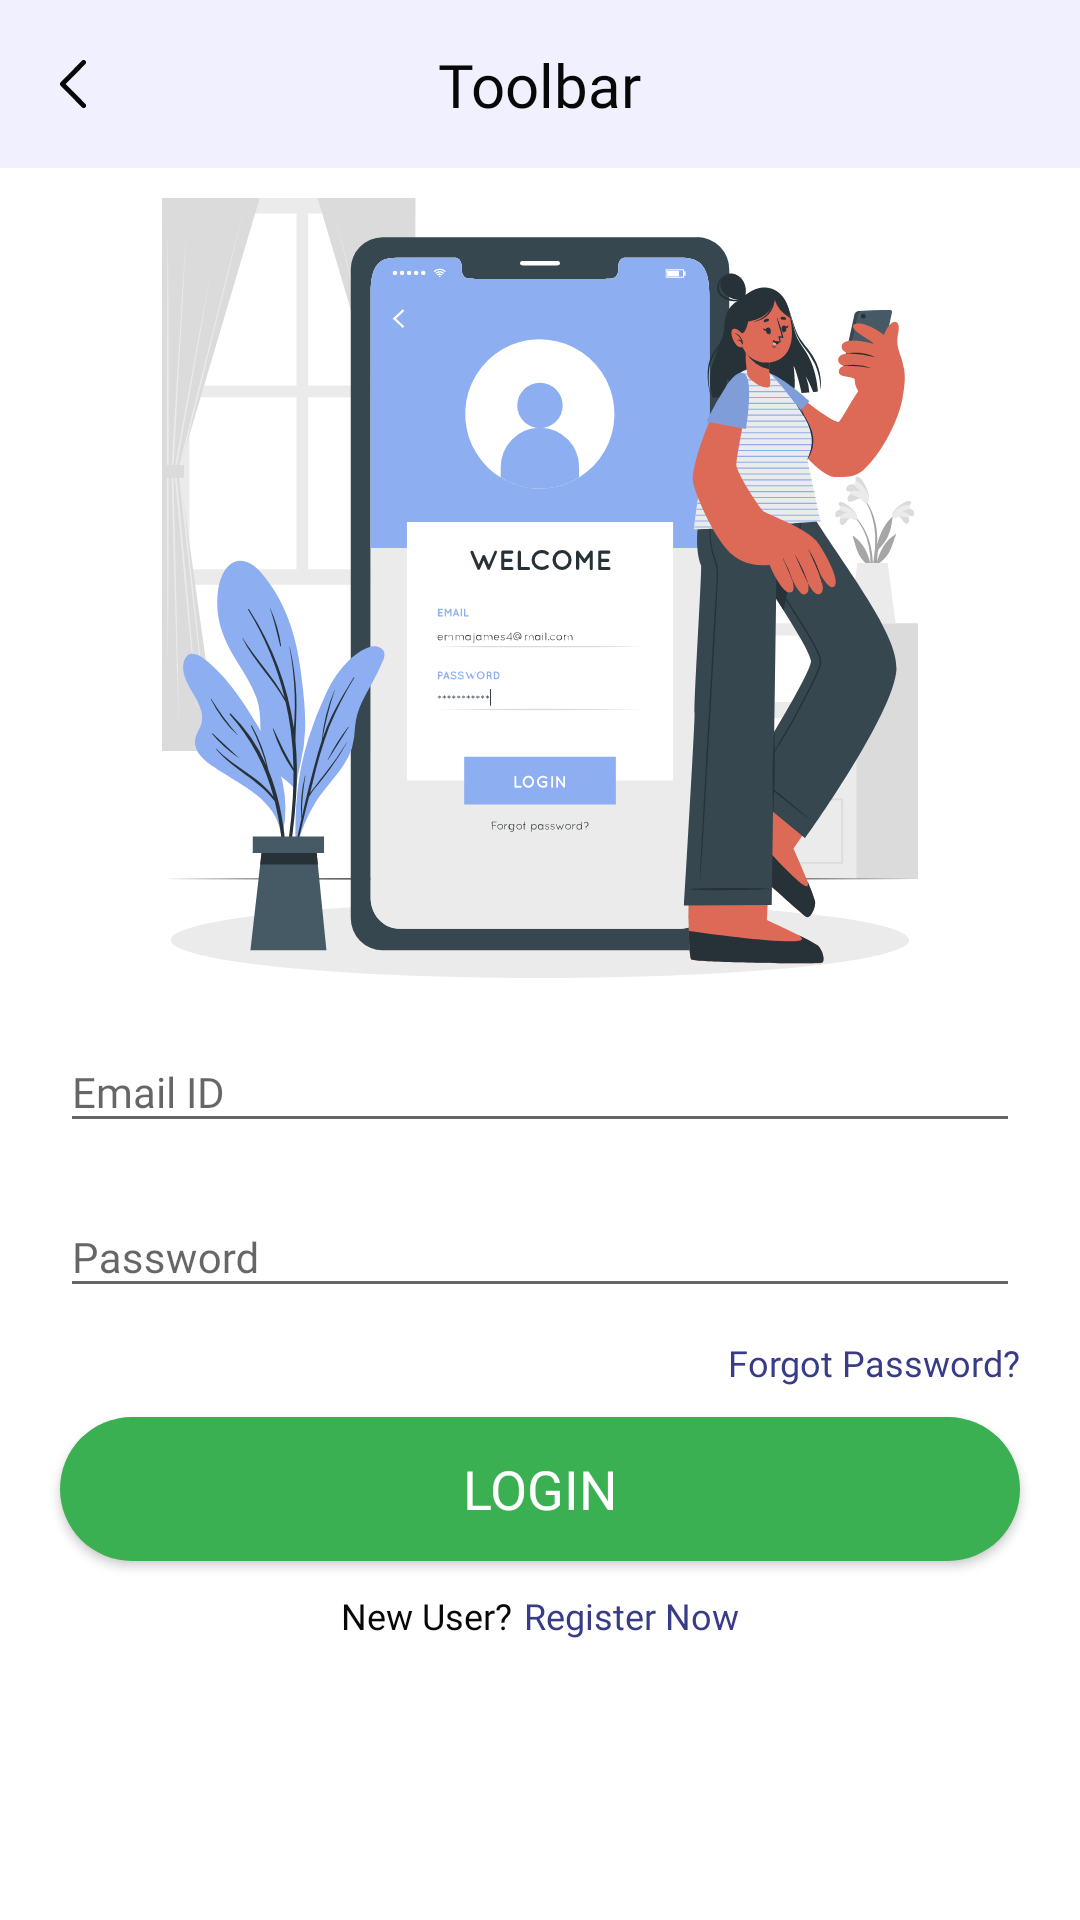

Where icons sit on this 1080x1920 app screen, as bbox=[x1, y1, x2, y2]:
back: bbox=[60, 60, 86, 108]
